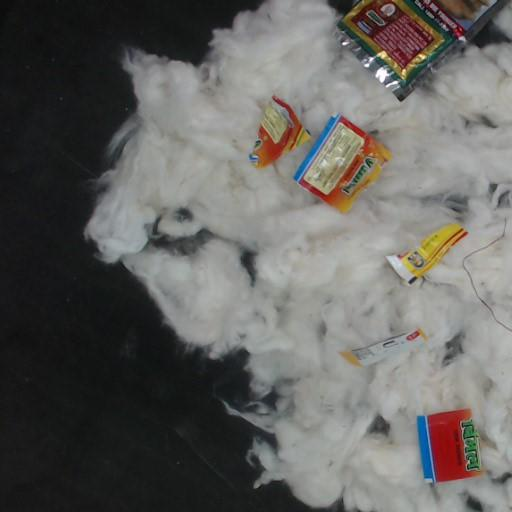conveyor belt: (474, 23, 509, 46), (330, 0, 352, 13), (465, 496, 481, 511)
cotton: (84, 0, 511, 511), (494, 1, 511, 39)
packet: (337, 0, 509, 101), (294, 115, 390, 211), (386, 224, 467, 284), (417, 409, 481, 482), (249, 96, 309, 167), (341, 329, 425, 365)
thread: (461, 219, 511, 333)
